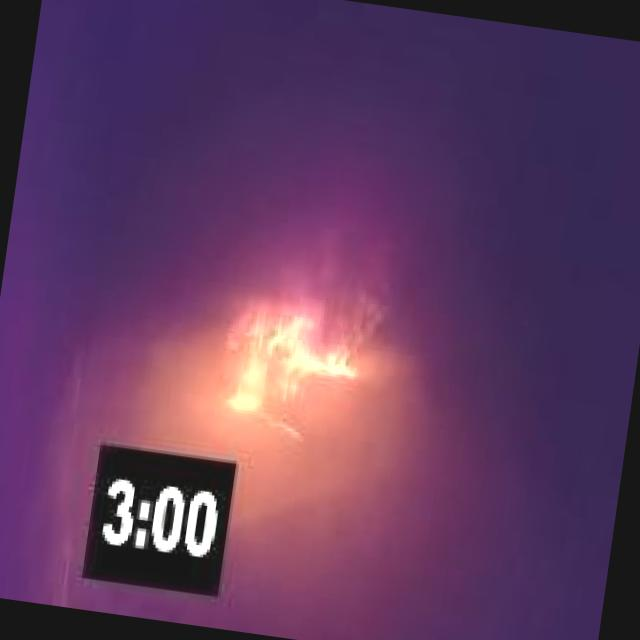fire: (205, 260, 344, 454)
